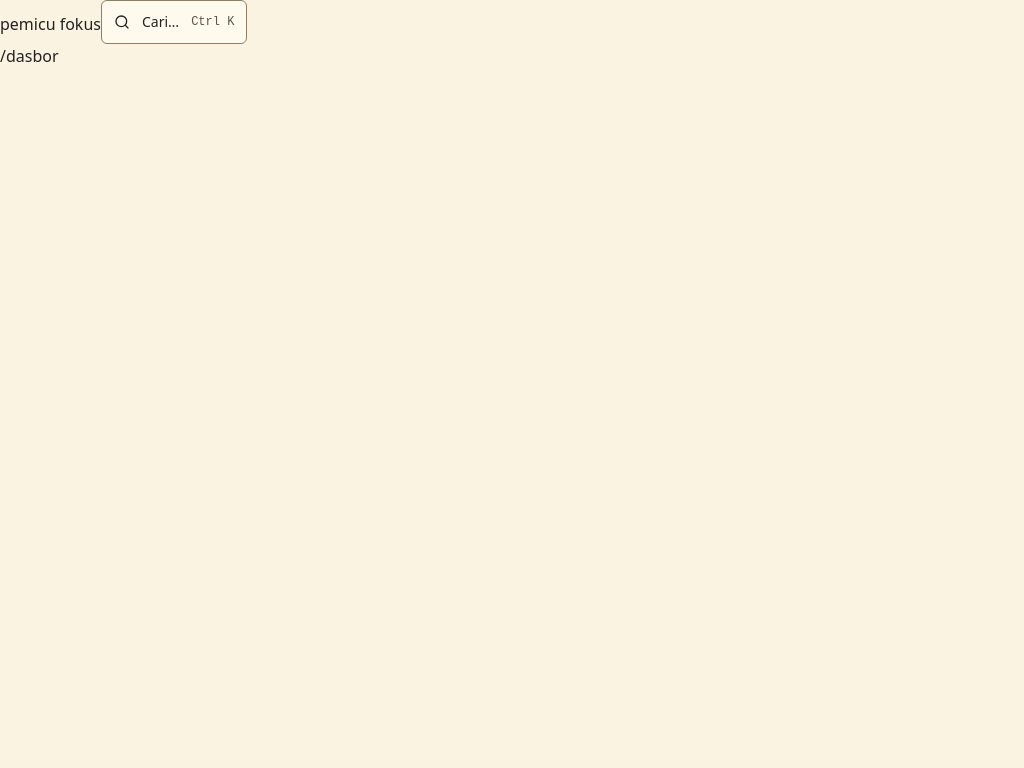
palette perintah › lebih dari 8 hasil: baris "Lihat semua di Stok" membuka daftar Stok dengan kata cari
Type keys "{Control>}k{/Control}"
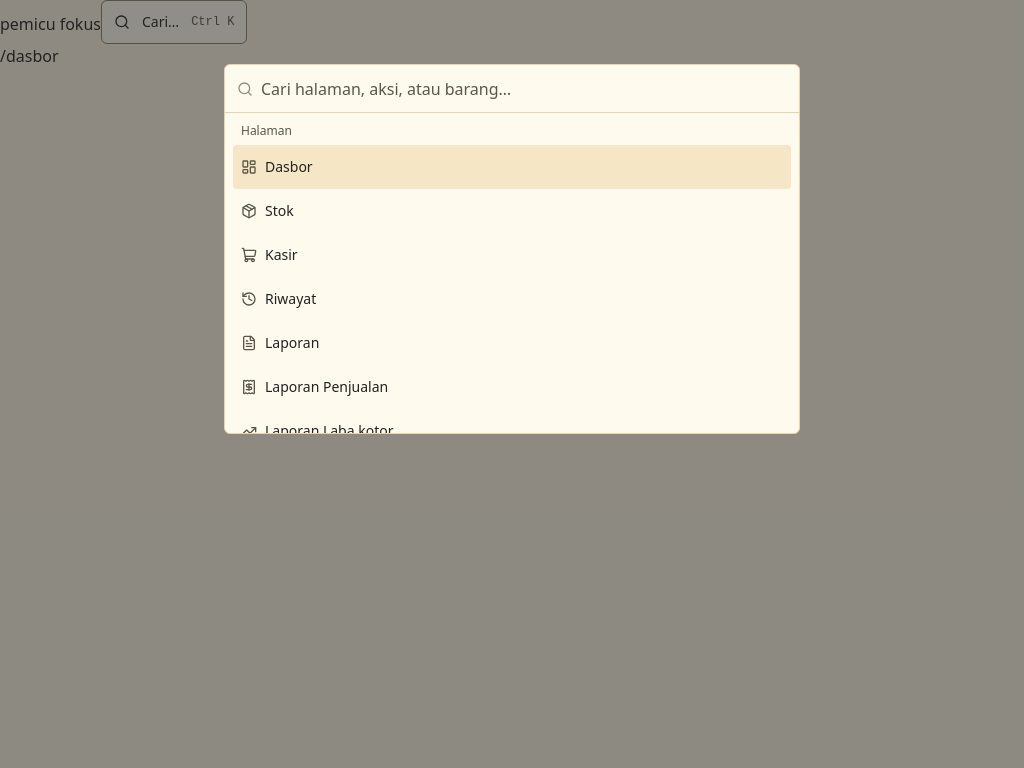
Type keys "a"
(page scrolled)
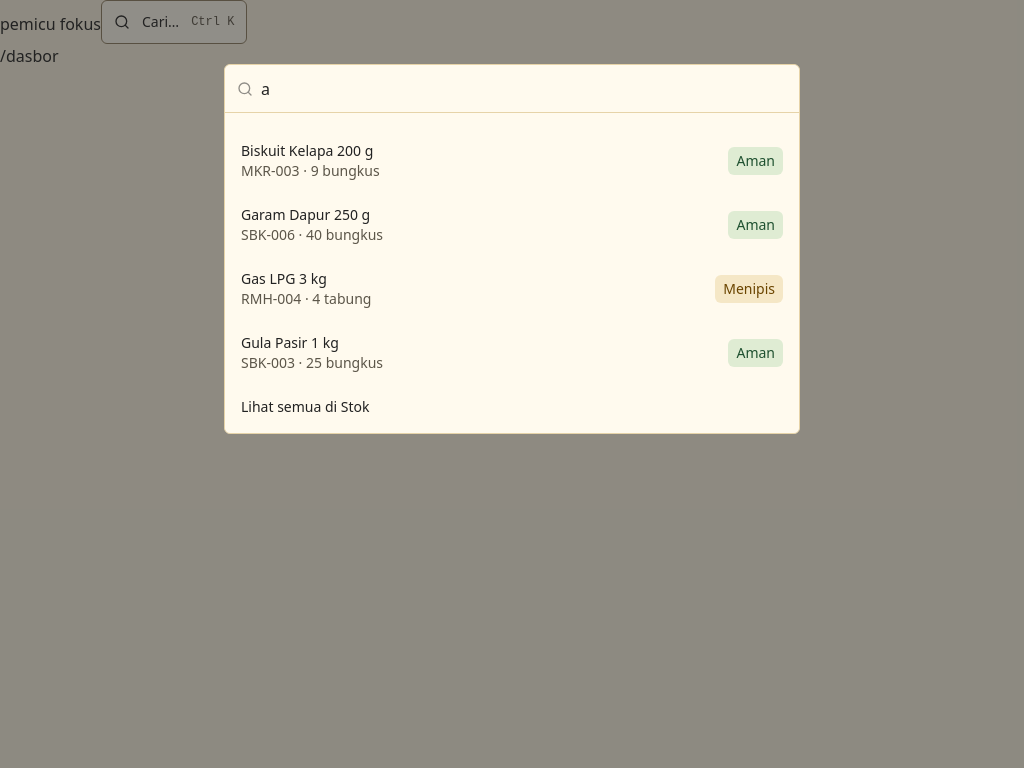
Click the option "Lihat semua di Stok".
click(305, 406)  # box [241, 397, 370, 416]
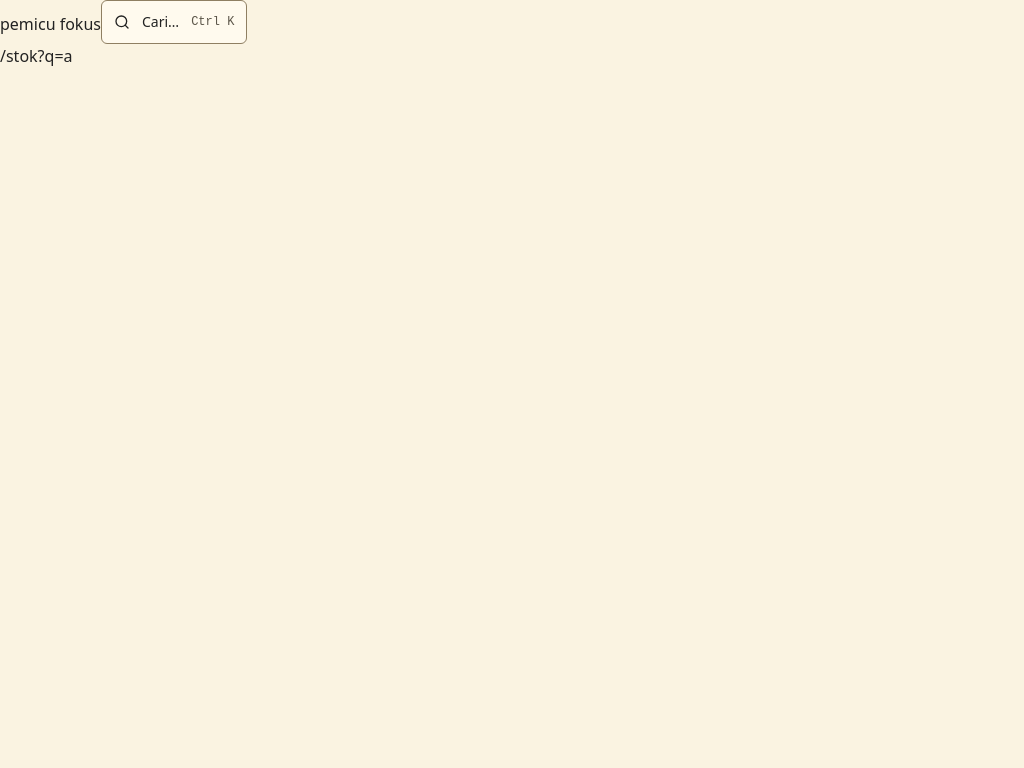
Expected: the text with test id "lokasi" reads "/stok?q=a", [0, 45, 72, 67]
